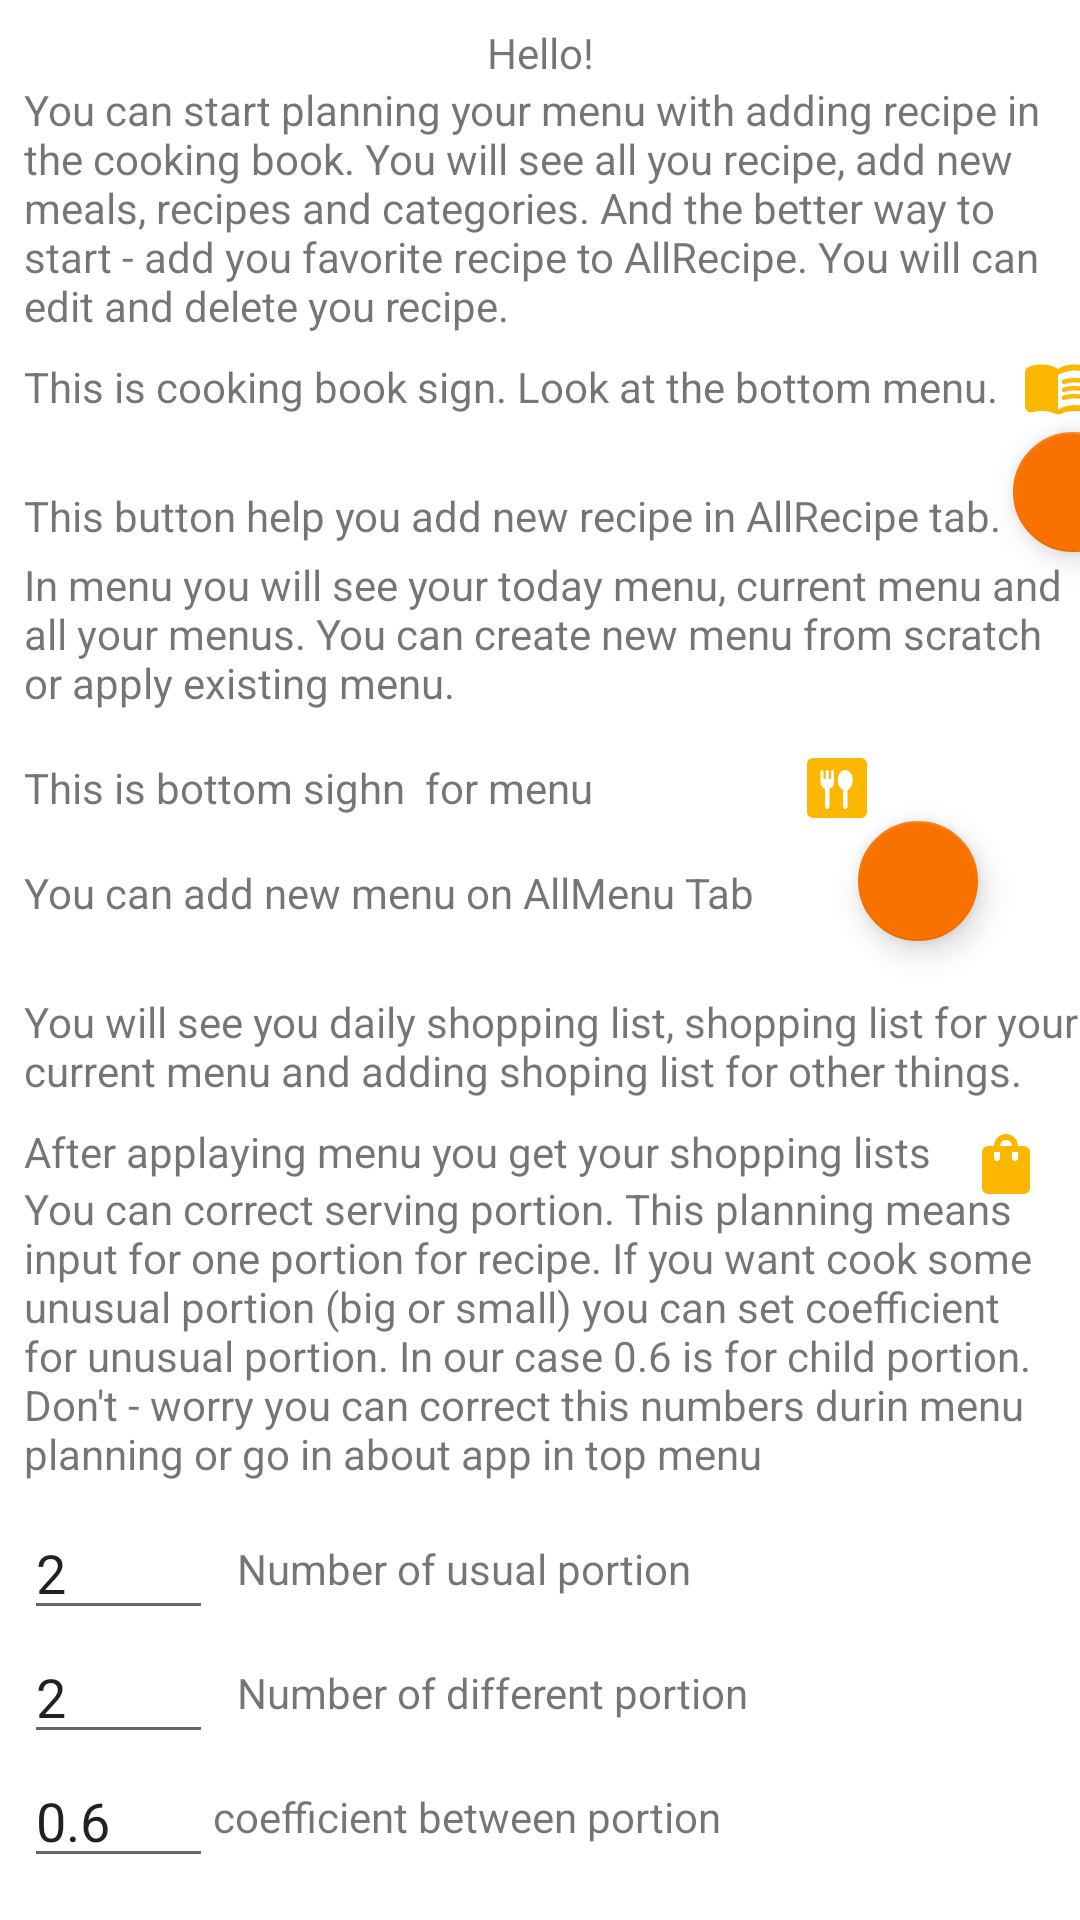

Screen size 1080w x 1920h. Icon name, then its center in pixels as point (x, y):
dining: point (837, 788)
shopping bag: point (1006, 1164)
